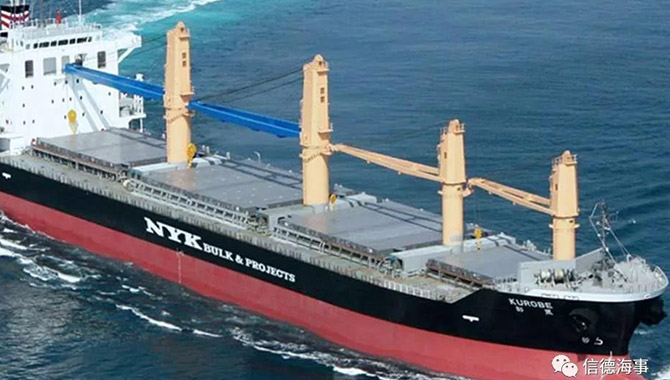Cargoship: (1, 2, 668, 369)
